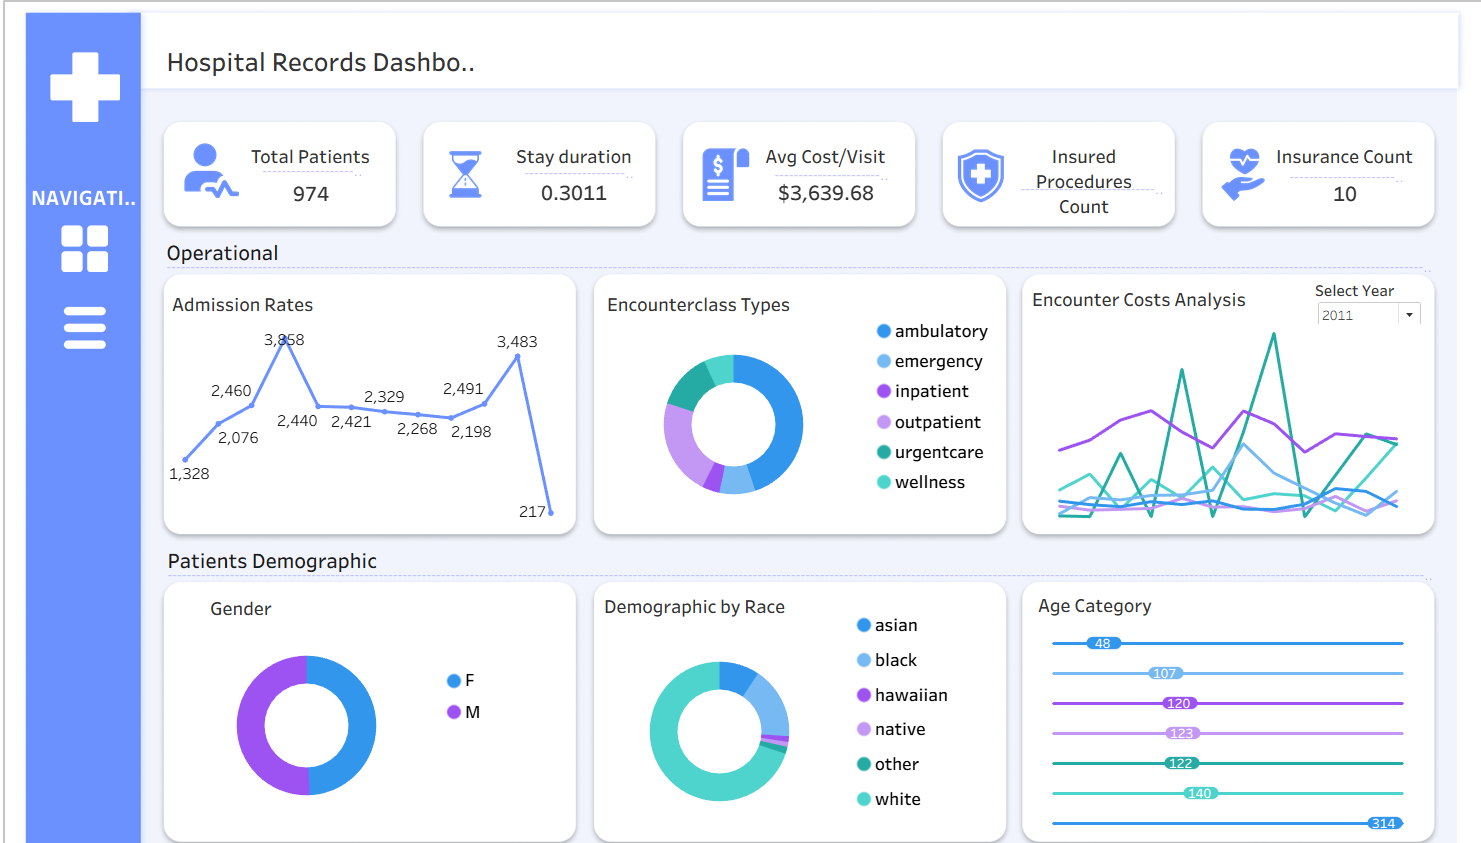

What the dashboard file says about the page in this screenshot:
{"tool":"tableau","page":{"name":"Overview","canvas":[1495,900],"ordinal":1},"visuals":[{"type":"image","param":"Image/Hospital Dashboard 111.png","box":[8,8,1479,884]},{"type":"text","box":[166.5,51.5,321.6,32.8]},{"type":"image","param":"Image/pharmacy.png","box":[53,58,70,71]},{"type":"worksheet","title":"Total Patients","mark":"Text","box":[241,145,145,69]},{"type":"worksheet","title":"Stay duration","mark":"Automatic","box":[508,145,138,68]},{"type":"worksheet","title":"Avg Cost/Visit","mark":"Automatic","box":[745,145,167,68]},{"type":"worksheet","title":"Insured Procedures Count","mark":"Text","box":[1009,145,156,75]},{"type":"worksheet","title":"Insurance Count","mark":"Text","box":[1269,145,157,70]},{"type":"image","param":"Image/heart-care.png","box":[1211,146,73,69]},{"type":"image","param":"Image/patient.png","box":[187,149,56,55]},{"type":"image","param":"Image/bill.png","box":[702,154,59,53]},{"type":"image","param":"Image/health-insurance.png","box":[956,154,57,55]},{"type":"image","param":"Image/hourglass.png","box":[443,155,56,50]},{"type":"text","box":[262,162,107,29]},{"type":"text","box":[524,163,113,30]},{"type":"text","box":[774,165,118,30]},{"type":"text","box":[1289,167,121,30]},{"type":"text","box":[1020,179,148,30]},{"type":"text","box":[30,188,113,30]},{"type":"dashboard-object","box":[30,231,114,47]},{"type":"text","box":[166,239,1271,38]},{"type":"text","box":[166,267,1270,11]},{"type":"filter","title":"Encounter Costs Analysis","param":"[federated.0sejw0f1yb4zil1a6oo03197j9nr].[yr:START:ok]","box":[1318,286,109,44]},{"type":"worksheet","title":"Encounter Costs Analysis","mark":"Automatic","rows":["TOTAL_CLAIM_COST"],"cols":["START"],"box":[1031,288,399,245]},{"type":"worksheet","title":"Admission Rates","mark":"Automatic","rows":["Calculation_14988577816236037"],"cols":["START"],"box":[171,293,399,236]},{"type":"worksheet","title":"Encounterclass Types","mark":"Pie","rows":["Calculation_14988577835847692","Calculation_14988577835847692"],"box":[606,293,261,235]},{"type":"dashboard-object","box":[30,300,115,67]},{"type":"worksheet","title":"Encounterclass Legend","mark":"Circle","rows":["ENCOUNTERCLASS"],"cols":["Calculation_14566365418131474"],"box":[777,322,220,181]},{"type":"text","box":[167,547,1271,39]},{"type":"text","box":[167,574,1270,13]},{"type":"worksheet","title":"Age Category","mark":"Line","rows":["Calculation_14636734190182417"],"cols":["Id (patients.csv)"],"box":[1037,594,387,250]},{"type":"worksheet","title":"Demographic by Race","mark":"Pie","rows":["Calculation_14988577835847692","Calculation_14988577835847692"],"box":[603,595,239,245]},{"type":"worksheet","title":"Gender","mark":"Pie","rows":["Calculation_14988577835847692","Calculation_14988577835847692"],"box":[209,597,201,229]},{"type":"worksheet","title":"Race Legend","mark":"Circle","rows":["RACE"],"cols":["Calculation_14566365418131474"],"box":[733,614,267,208]},{"type":"worksheet","title":"Gender Legend","mark":"Circle","rows":["GENDER"],"cols":["Calculation_14566365418131474"],"box":[382,671,150,62]}]}

Visuals, with their boxes on the page's 1495x900 design canvas (x1, y1, x2, y2). These are canvas units, not pixel positions in the 1481x843 screenshot, which may show the page scaled, cropped or inside an application window:
image: region(8, 8, 1487, 892)
text: region(166, 52, 488, 84)
image: region(53, 58, 123, 129)
"Total Patients" worksheet (Text marks): region(241, 145, 386, 214)
"Stay duration" worksheet: region(508, 145, 646, 213)
"Avg Cost/Visit" worksheet: region(745, 145, 912, 213)
"Insured Procedures Count" worksheet (Text marks): region(1009, 145, 1165, 220)
"Insurance Count" worksheet (Text marks): region(1269, 145, 1426, 215)
image: region(1211, 146, 1284, 215)
image: region(187, 149, 243, 204)
image: region(702, 154, 761, 207)
image: region(956, 154, 1013, 209)
image: region(443, 155, 499, 205)
text: region(262, 162, 369, 191)
text: region(524, 163, 637, 193)
text: region(774, 165, 892, 195)
text: region(1289, 167, 1410, 197)
text: region(1020, 179, 1168, 209)
text: region(30, 188, 143, 218)
dashboard-object: region(30, 231, 144, 278)
text: region(166, 239, 1437, 277)
text: region(166, 267, 1436, 278)
"Encounter Costs Analysis" filter: region(1318, 286, 1427, 330)
"Encounter Costs Analysis" worksheet: region(1031, 288, 1430, 533)
"Admission Rates" worksheet: region(171, 293, 570, 529)
"Encounterclass Types" worksheet (Pie marks): region(606, 293, 867, 528)
dashboard-object: region(30, 300, 145, 367)
"Encounterclass Legend" worksheet (Circle marks): region(777, 322, 997, 503)
text: region(167, 547, 1438, 586)
text: region(167, 574, 1437, 587)
"Age Category" worksheet (Line marks): region(1037, 594, 1424, 844)
"Demographic by Race" worksheet (Pie marks): region(603, 595, 842, 840)
"Gender" worksheet (Pie marks): region(209, 597, 410, 826)
"Race Legend" worksheet (Circle marks): region(733, 614, 1000, 822)
"Gender Legend" worksheet (Circle marks): region(382, 671, 532, 733)
